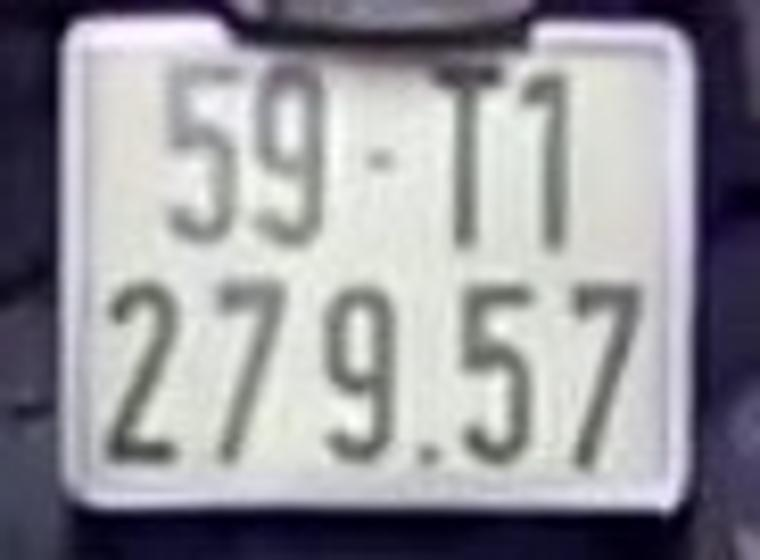-: (360, 150, 396, 170)
.: (418, 445, 440, 468)
1: (519, 71, 573, 255)
2: (108, 279, 177, 463)
5: (159, 63, 236, 243), (459, 281, 529, 465)
7: (213, 279, 285, 472), (569, 283, 641, 465)
9: (323, 284, 395, 465), (253, 66, 322, 247)
T: (430, 60, 498, 252)
